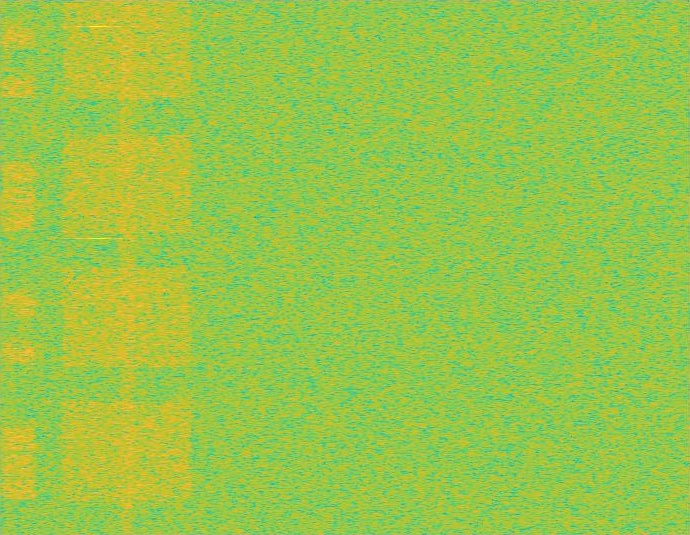5G: (58, 0, 196, 534)
DSSS: (118, 0, 136, 534)
LTE: (2, 0, 36, 534)
Radar: (92, 0, 106, 534)
